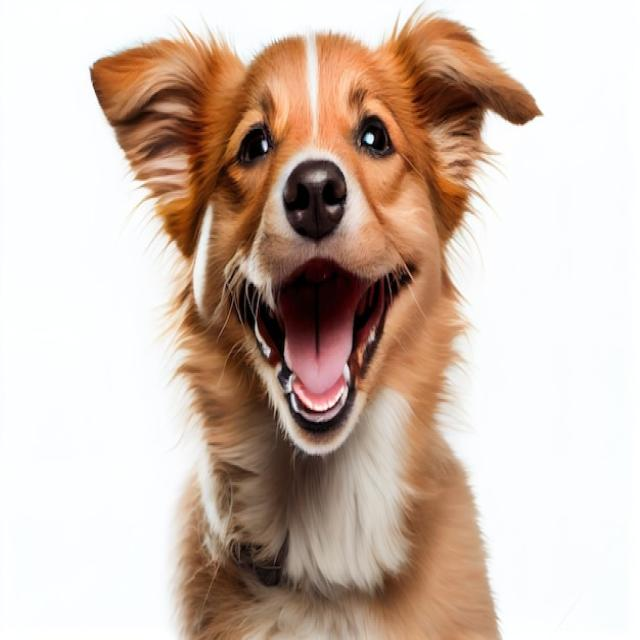Dog: (88, 9, 542, 640)
